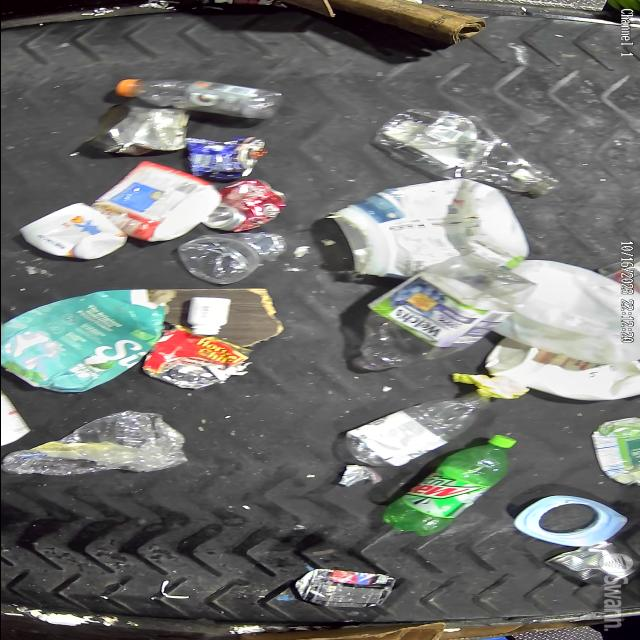can: (84, 104, 190, 156), (202, 180, 288, 232), (544, 542, 638, 585), (294, 569, 396, 608), (185, 136, 268, 180)
milk_jug: (478, 260, 634, 362), (482, 341, 640, 402)
non_white_jug: (338, 178, 532, 280), (0, 288, 170, 391)
plastic_bottle: (348, 274, 517, 374), (374, 109, 560, 197), (342, 388, 496, 468), (114, 78, 282, 120)
